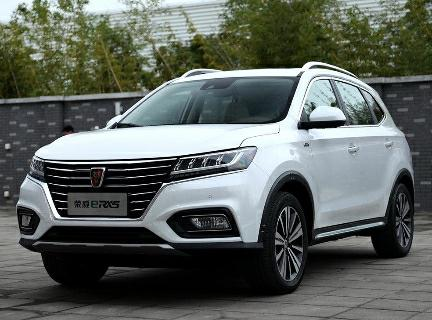荣威-RX5新能源: (10, 58, 425, 297)
